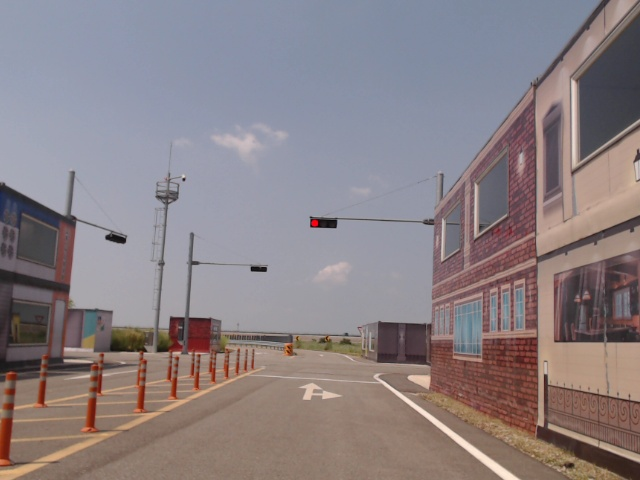red_3: (311, 218, 338, 228)
